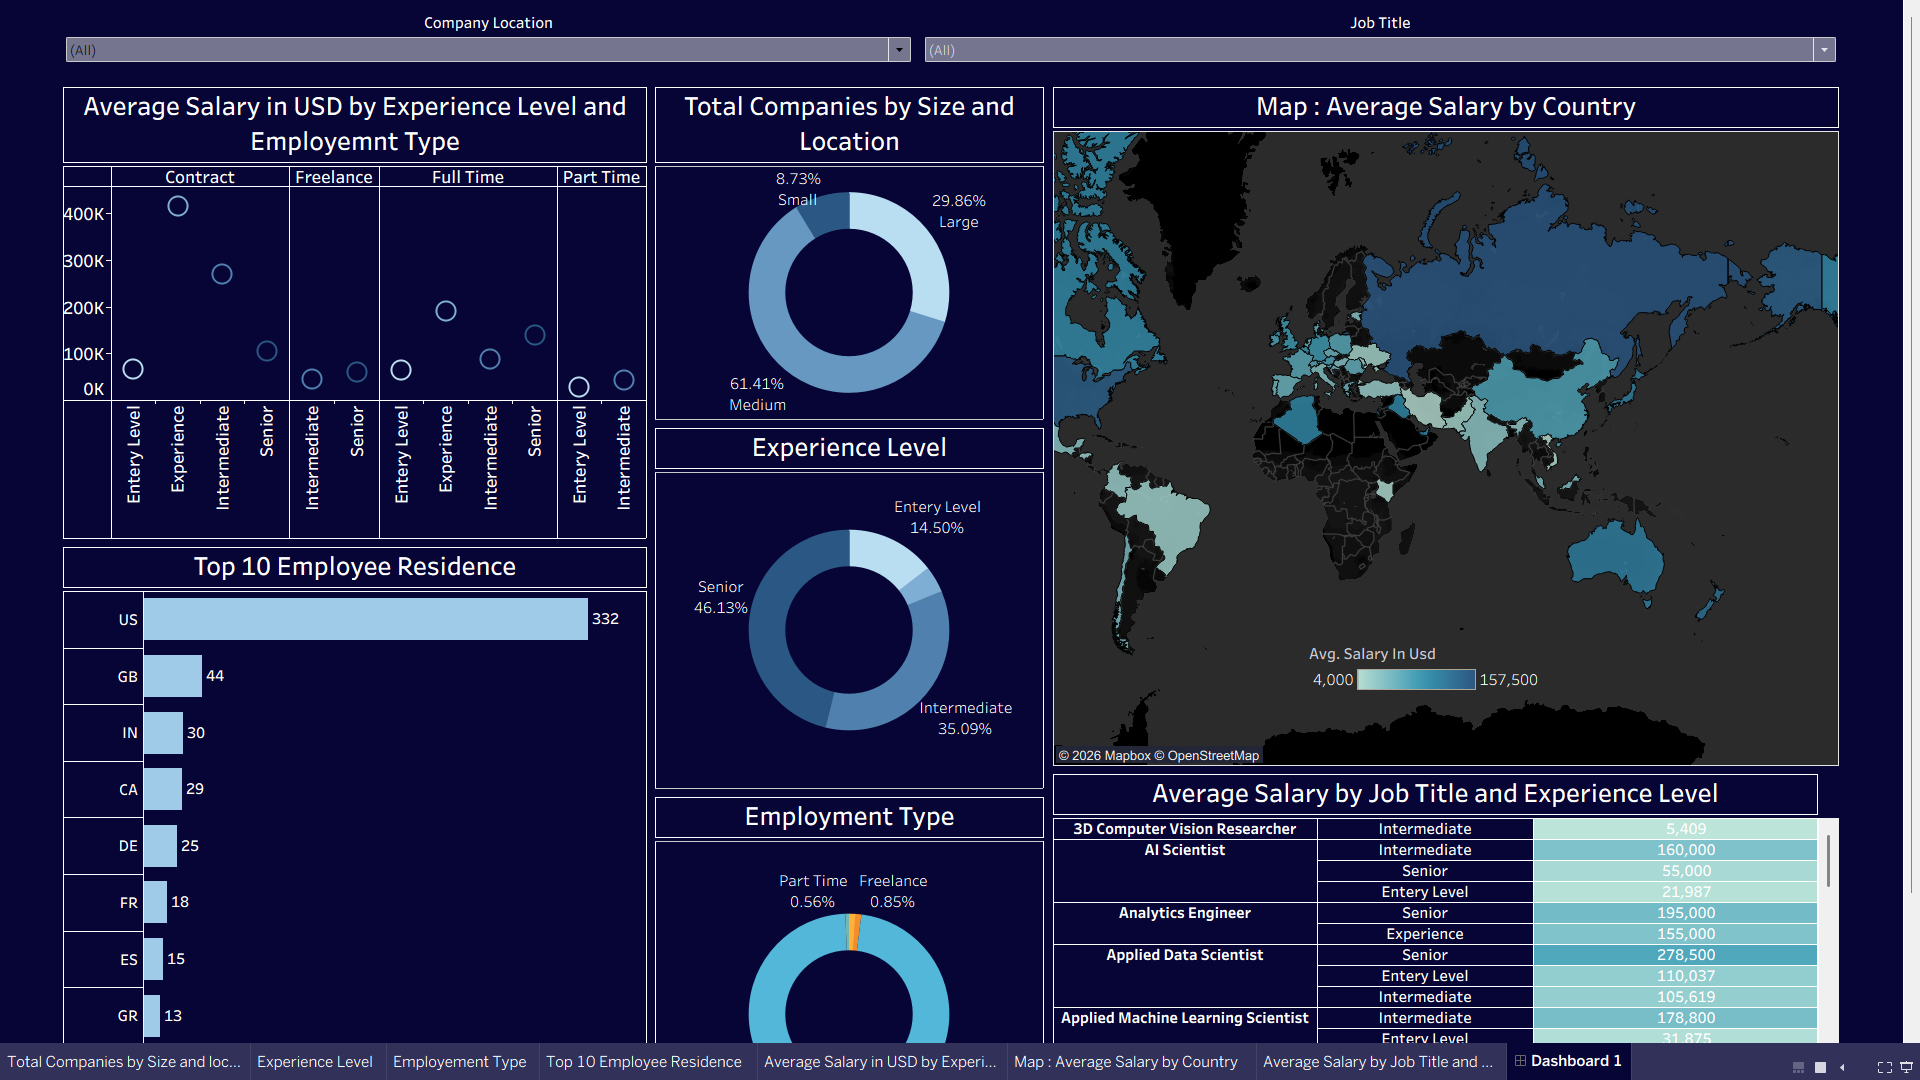

The dashboard page shown, as its layout file describes it:
{"tool":"tableau","page":{"name":"Dashboard 1","canvas":[1800,1200],"ordinal":0},"visuals":[{"type":"filter","title":"Average Salary in USD by Experience Level and Employemnt Type","param":"[federated.19i9x200hl0aaz18feh9f1l20orj].[none:company_location:nk]","box":[8,8,858.6,61]},{"type":"filter","title":"Map : Average Salary by Country","param":"[federated.19i9x200hl0aaz18feh9f1l20orj].[none:job_title:nk]","box":[866.6,8,925.4,75]},{"type":"worksheet","title":"Average Salary in USD by Experience Level and Employemnt Type","mark":"Shape","rows":["salary_in_usd"],"cols":["employment_type","experience_level"],"box":[8,83,592.4,460]},{"type":"worksheet","title":"Total Companies by Size and location","mark":"Pie","rows":["Calculation_1661123682856961","Calculation_1661123682856961"],"box":[600.4,83,397.2,341]},{"type":"worksheet","title":"Map : Average Salary by Country","mark":"Automatic","box":[997.6,83,794.4,687]},{"type":"worksheet","title":"Experience Level","mark":"Pie","rows":["Calculation_1661123682856961","Calculation_1661123682856961"],"box":[600.4,424,397.2,369]},{"type":"worksheet","title":"Top 10 Employee Residence","mark":"Automatic","rows":["employee_residence"],"cols":["employee_residence"],"box":[8,543,592.4,649]},{"type":"legend","title":"Map : Average Salary by Country","param":"[federated.19i9x200hl0aaz18feh9f1l20orj].[avg:salary_in_usd:qk]","box":[1258.3,643,234,64]},{"type":"worksheet","title":"Average Salary by Job Title and Experience Level","mark":"Square","rows":["job_title","experience_level"],"box":[997.6,770,794.4,422]},{"type":"worksheet","title":"Employement Type","mark":"Pie","rows":["Calculation_1661123682856961","Calculation_1661123682856961"],"box":[600.4,793,397.2,399]}]}

Visuals, with their boxes on the page's 1800x1200 design canvas (x1, y1, x2, y2). These are canvas units, not pixel positions in the 1920x1080 screenshot, which may show the page scaled, cropped or inside an application window:
"Average Salary in USD by Experience Level and Employemnt Type" filter: 8,8,867,69
"Map : Average Salary by Country" filter: 867,8,1792,83
"Average Salary in USD by Experience Level and Employemnt Type" worksheet (Shape marks): 8,83,600,543
"Total Companies by Size and location" worksheet (Pie marks): 600,83,998,424
"Map : Average Salary by Country" worksheet: 998,83,1792,770
"Experience Level" worksheet (Pie marks): 600,424,998,793
"Top 10 Employee Residence" worksheet: 8,543,600,1192
"Map : Average Salary by Country" legend: 1258,643,1492,707
"Average Salary by Job Title and Experience Level" worksheet (Square marks): 998,770,1792,1192
"Employement Type" worksheet (Pie marks): 600,793,998,1192
